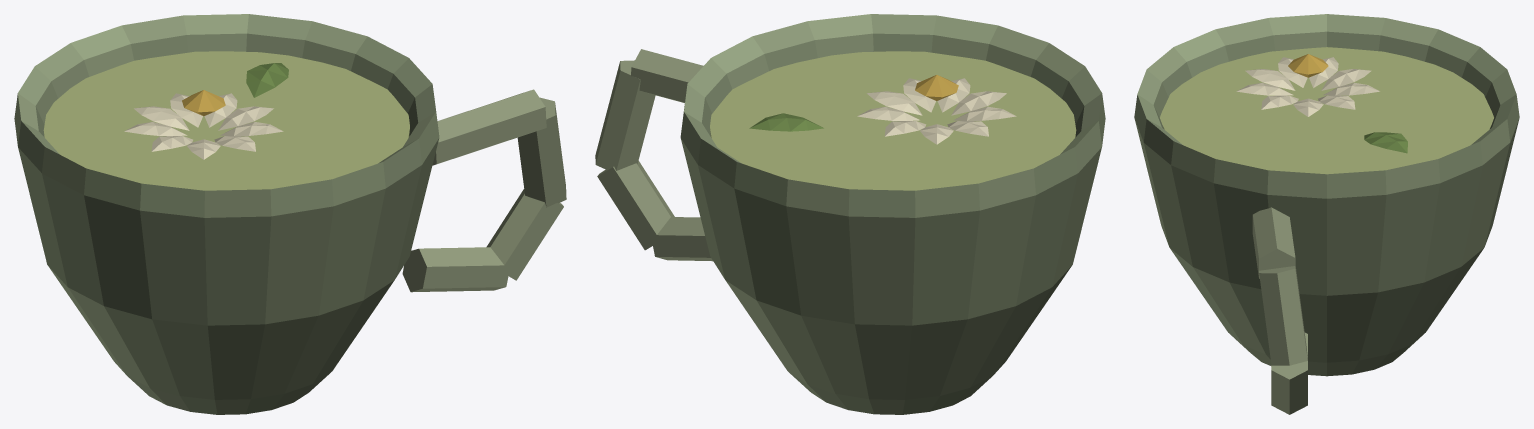
The model's file is tea_herb.glb.
3 renders of one model, left to right at view 1: azimuth 30°, elevation 25°; view 2: azimuth 150°, elevation 25°; view 3: azimuth 270°, elevation 25°, orthographic. The views are drawn at different scales.
Parts seen in each view (by area): view 1: food; view 2: food; view 3: food.
Boxes of the visible parts, x1,y1,x2,y2 form: food: (14, 14, 566, 414); food: (595, 14, 1105, 414); food: (1134, 14, 1519, 414).
Size of the model in its own units: 0.4217 by 0.2426 by 0.31.
